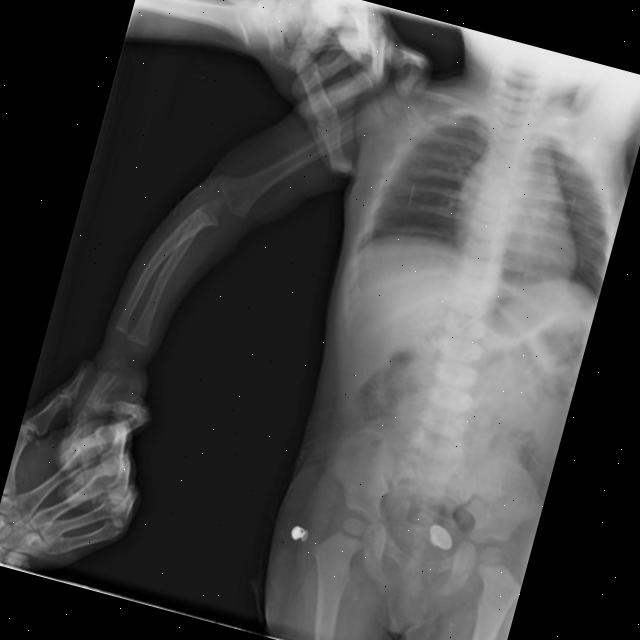fractured: (151, 266, 174, 287), (133, 270, 151, 289)
